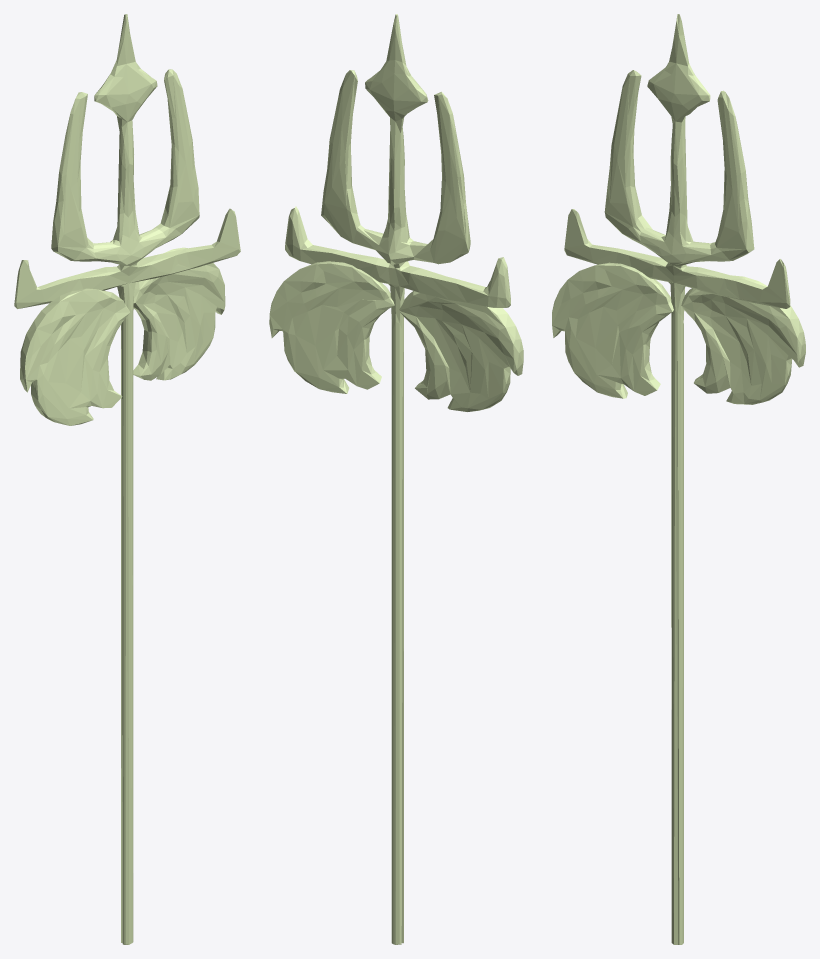
The picture shows the model from 3 angles, left to right: view 1: azimuth 30°, elevation 25°; view 2: azimuth 150°, elevation 25°; view 3: azimuth 330°, elevation 25°; orthographic projection.
Parts seen in each view (by area): view 1: PM3D_Cylinder3D1; view 2: PM3D_Cylinder3D1; view 3: PM3D_Cylinder3D1.
Part boxes in pixels (x1,y1,x2,y2): PM3D_Cylinder3D1: [14, 14, 240, 944]; PM3D_Cylinder3D1: [269, 14, 523, 944]; PM3D_Cylinder3D1: [552, 14, 805, 944].
Bounding box in the file's own units: 4.23 × 16.5 × 0.9794.
